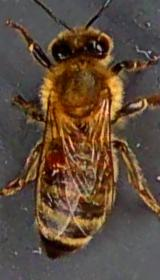varroa_mite: (38, 142, 76, 175)
